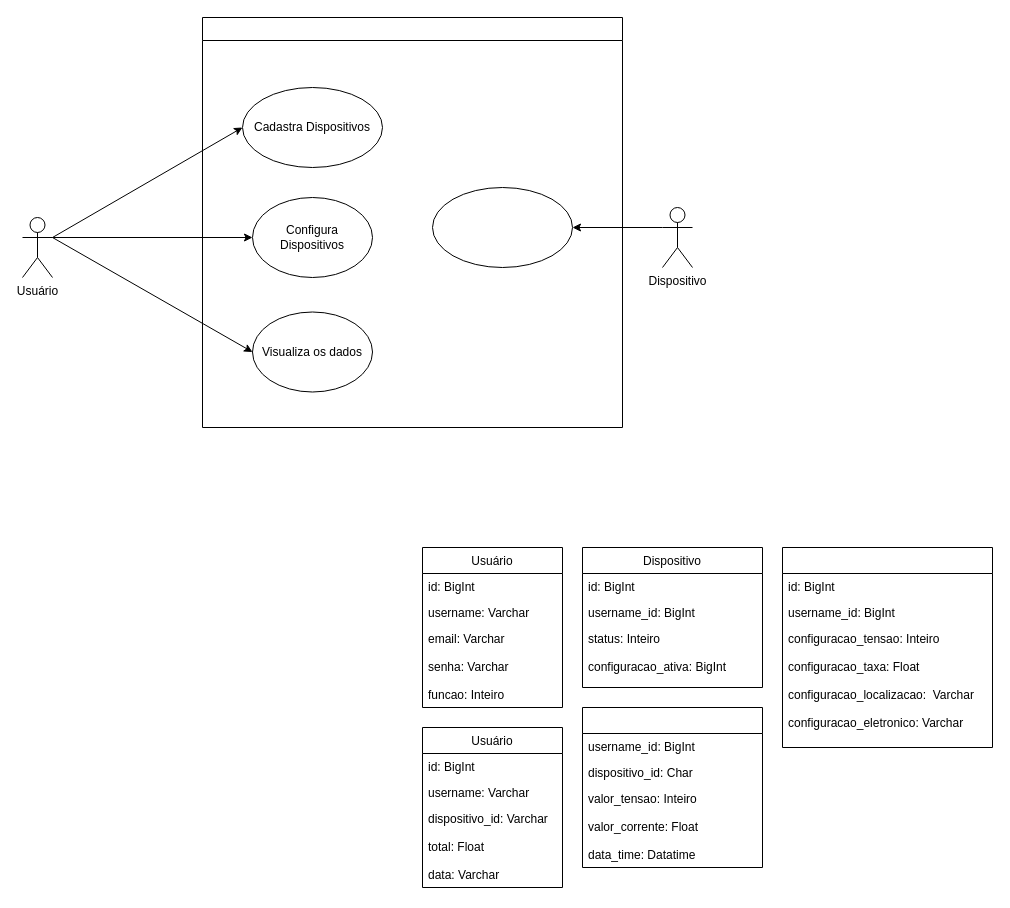
Image size: 1010x908. Some labels were removed from this diagram. The box of each missing label's shape, as (x1, y1, x2, y2) in pixels:
Casos de Uso Compact Box: (202, 16, 622, 428)
Configuração: (782, 546, 992, 748)
Envia dados dos logs: (432, 186, 572, 268)
Log: (582, 706, 762, 868)
